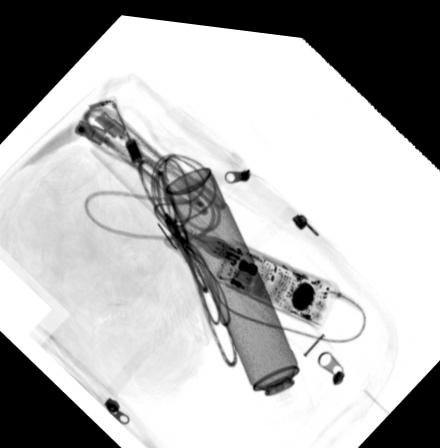Sprayer: (162, 161, 313, 421)
